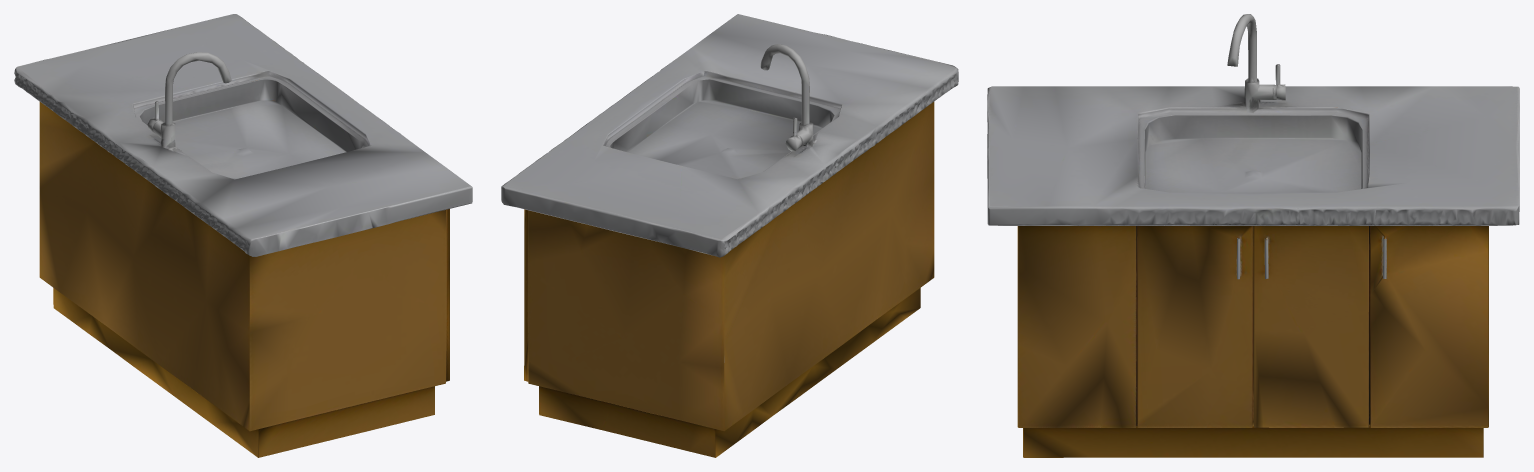
The model's file is GabineteCocina.fbx.
3 renders of one model, left to right at view 1: azimuth 30°, elevation 25°; view 2: azimuth 150°, elevation 25°; view 3: azimuth 270°, elevation 25°, orthographic. The views are drawn at different scales.
Visible parts, largest first — view 1: tripo_node_d289f68a; view 2: tripo_node_d289f68a; view 3: tripo_node_d289f68a.
Boxes of the visible parts, x1,y1,x2,y2 form: tripo_node_d289f68a: (14, 14, 472, 457); tripo_node_d289f68a: (501, 14, 958, 457); tripo_node_d289f68a: (987, 14, 1519, 457).
Size of the model in its own units: 0.5499 by 0.7552 by 0.9999.
1 material, 1 textured.
